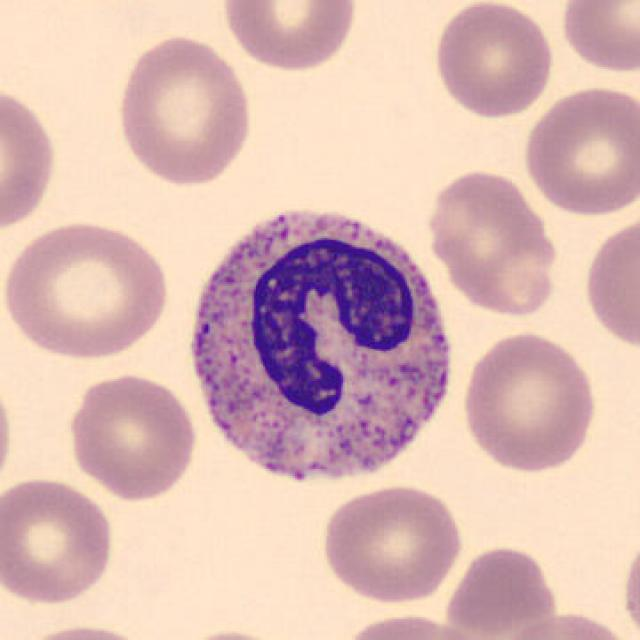Neutrophil: (178, 187, 462, 506)
RBC: (0, 215, 174, 362), (112, 30, 256, 189), (423, 164, 562, 321), (459, 328, 601, 476), (318, 482, 468, 606), (62, 370, 201, 502), (519, 81, 638, 219), (0, 472, 119, 608), (428, 0, 556, 122), (439, 542, 564, 638), (217, 0, 361, 74), (0, 79, 60, 236), (580, 210, 638, 352), (556, 0, 640, 76), (334, 610, 492, 640), (489, 608, 636, 640), (9, 620, 160, 640), (617, 523, 640, 640), (0, 365, 16, 506)
